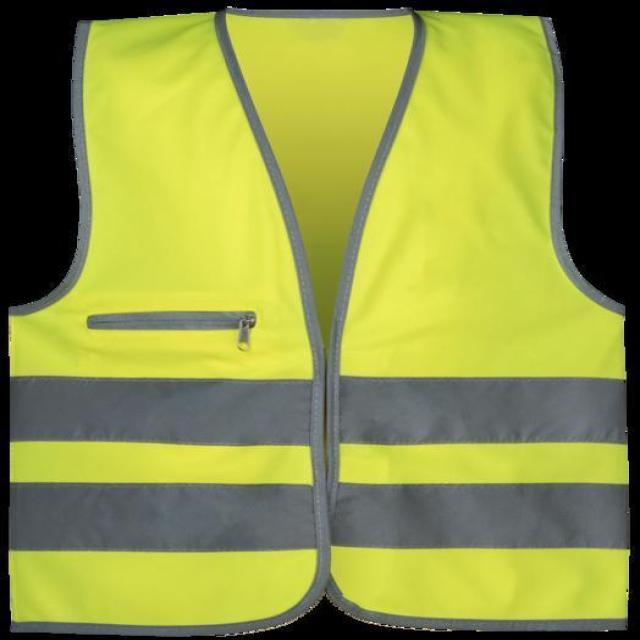Vest: (2, 13, 632, 636)
